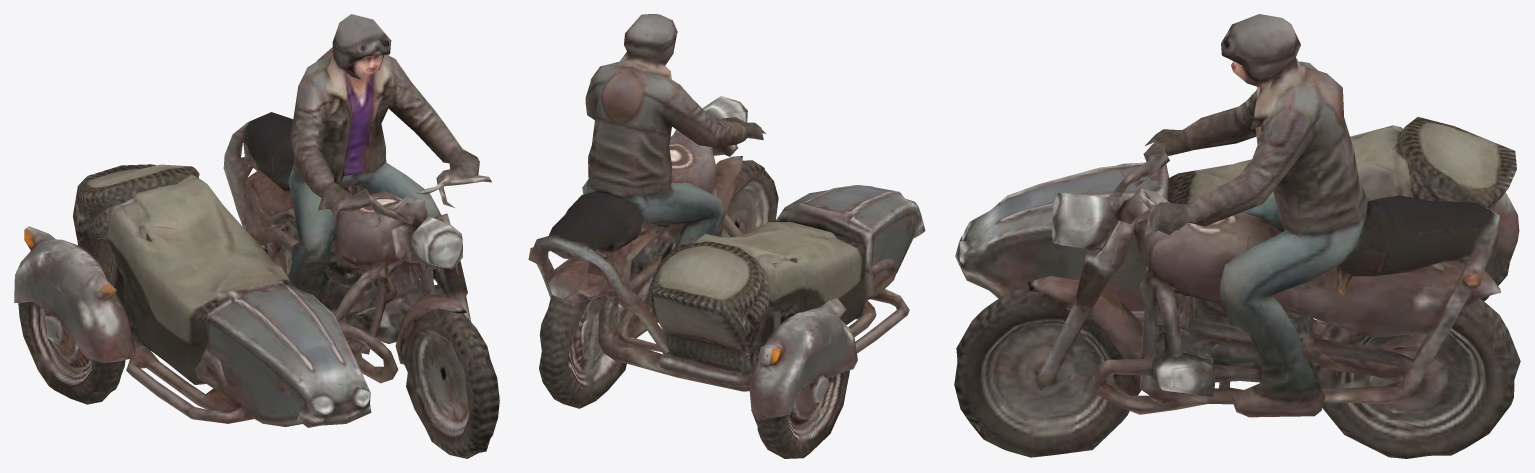
The model's file is sidecar-motorcycle-chaos-web.glb.
The picture shows the model from 3 angles, left to right: view 1: azimuth 30°, elevation 25°; view 2: azimuth 150°, elevation 25°; view 3: azimuth 270°, elevation 25°; orthographic projection. The views are drawn at different scales.
Visible parts, largest first — view 1: Vehicle body, wheel_front, wheel_sidecar; view 2: Vehicle body, wheel_rear, wheel_sidecar, wheel_front; view 3: Vehicle body, wheel_front, wheel_rear, wheel_sidecar.
Part boxes in pixels (x1,y1,x2,y2): Vehicle body: (14,14,491,427); wheel_front: (402,309,499,458); wheel_sidecar: (18,301,125,401); Vehicle body: (528,14,925,422); wheel_rear: (539,280,630,408); wheel_sidecar: (749,327,849,458); wheel_front: (720,160,778,237); Vehicle body: (955,14,1516,458); wheel_front: (954,288,1137,457); wheel_rear: (1313,301,1520,458); wheel_sidecar: (1481,192,1519,300).
Size of the model in its own units: 1.53 by 1.63 by 1.91.
1 material, 1 textured.
